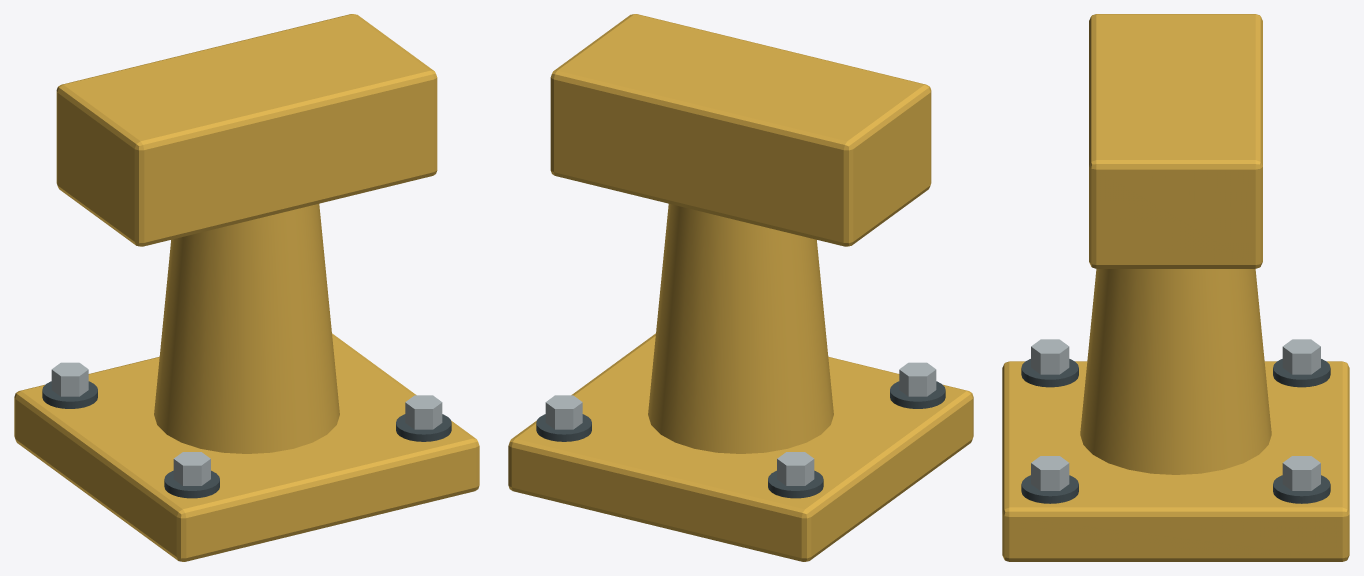
The model's file is quay_tee_bollard.glb.
3 renders of one model, left to right at view 1: azimuth 30°, elevation 25°; view 2: azimuth 150°, elevation 25°; view 3: azimuth 270°, elevation 25°, orthographic. The views are drawn at different scales.
Visible parts, largest first — view 1: quay_tee_bollard; view 2: quay_tee_bollard; view 3: quay_tee_bollard.
Boxes of the visible parts, x1,y1,x2,y2 form: quay_tee_bollard: (14,14,479,561); quay_tee_bollard: (508,14,973,561); quay_tee_bollard: (1002,14,1349,561).
Bounding box in the file's own units: 0.6 × 0.74 × 0.58.
